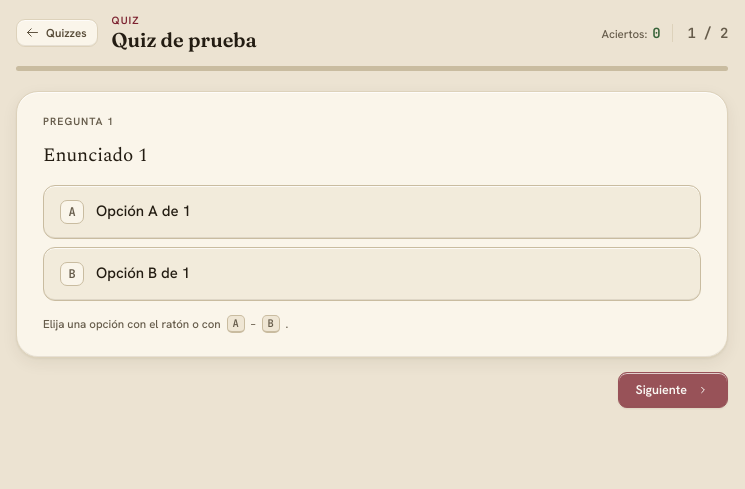
Test: <QuizView/> › «?n=2» recorta la tanda y esa partida no registra intento
Expected: the text "Enunciado 1" is shown, [43,141,148,170]
Click the button "B Opción B de 1" at (143, 273), box [43,246,701,300]
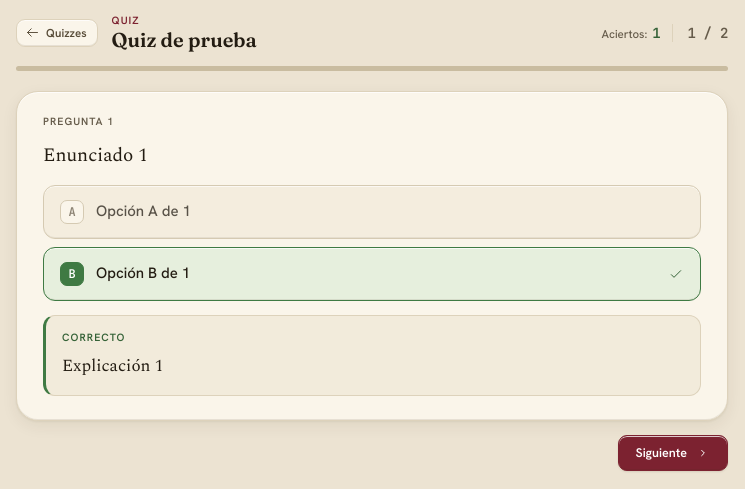
Click the button "Siguiente" at (673, 453), box [618,435,728,471]
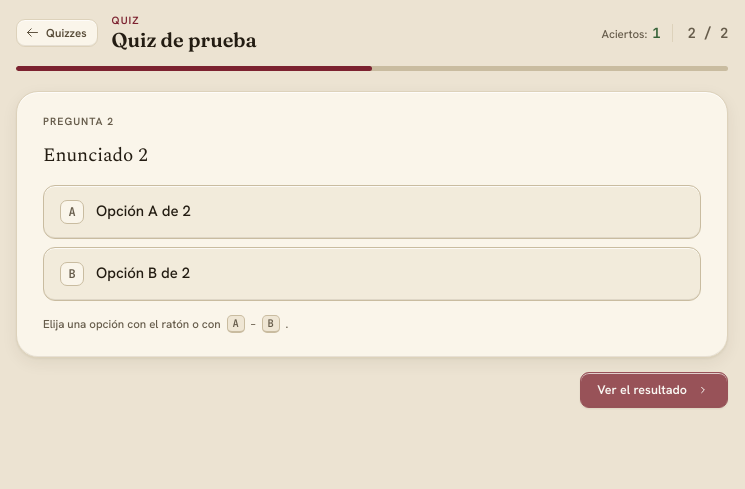
Result: the text "Enunciado 2" is shown at [43,141,148,170]
Click the button "B Opción B de 2" at (143, 273), box [43,246,701,300]
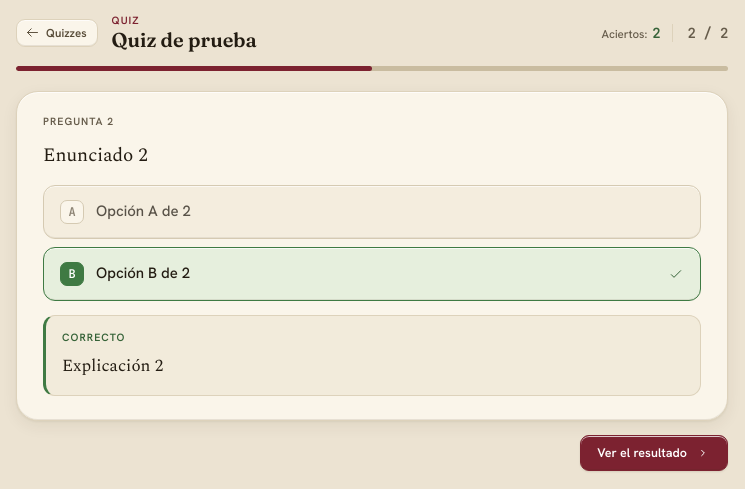
Click the button "Ver el resultado" at (654, 453), box [580,435,728,471]
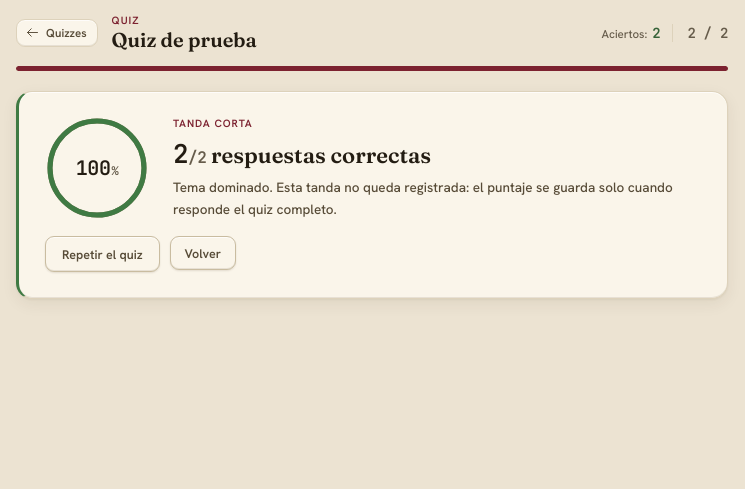
Result: the text "TANDA CORTA" is shown at [173,116,253,130]
Result: the text "no queda registrada" is shown at [173,178,673,218]
